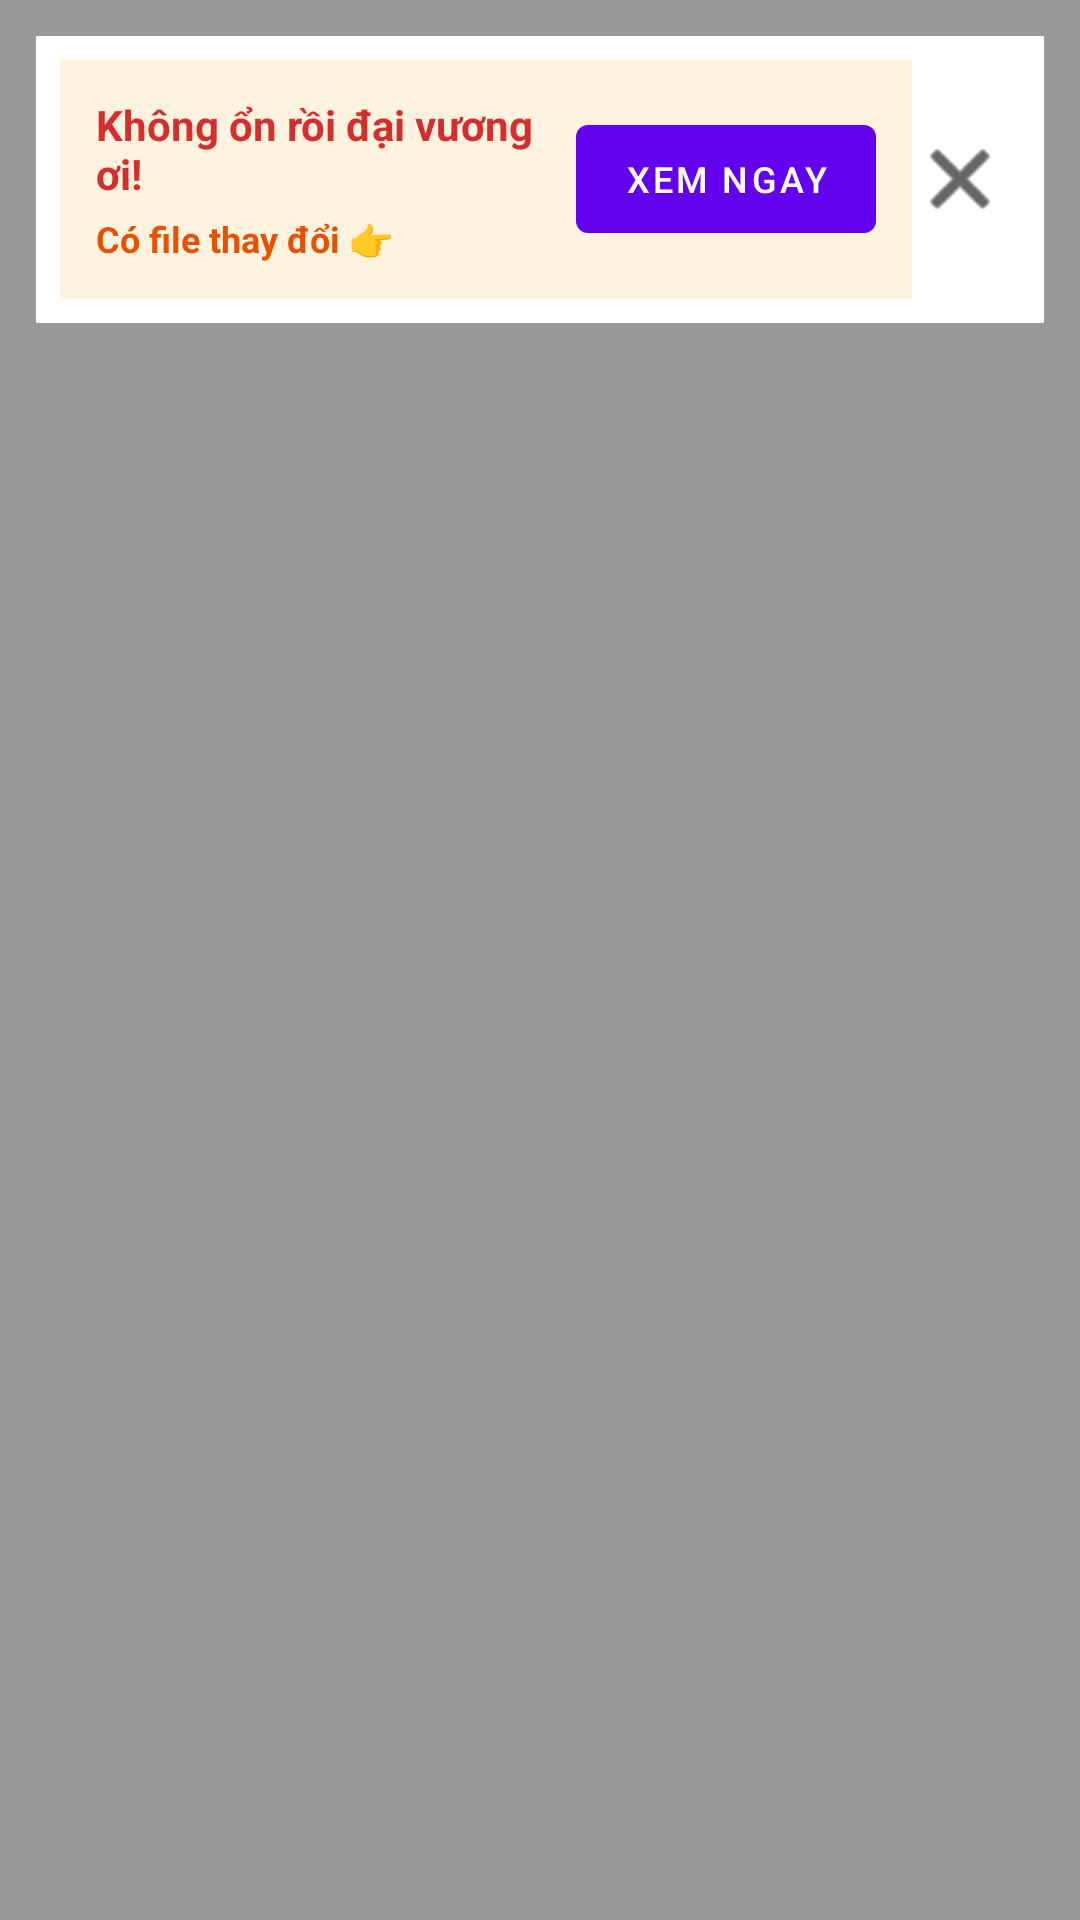

Icon bounding boxes for this 1080px x 1920px phone screenshot, format (x1, y1, x2, y2):
close clear cancel: (930, 149, 990, 209)
